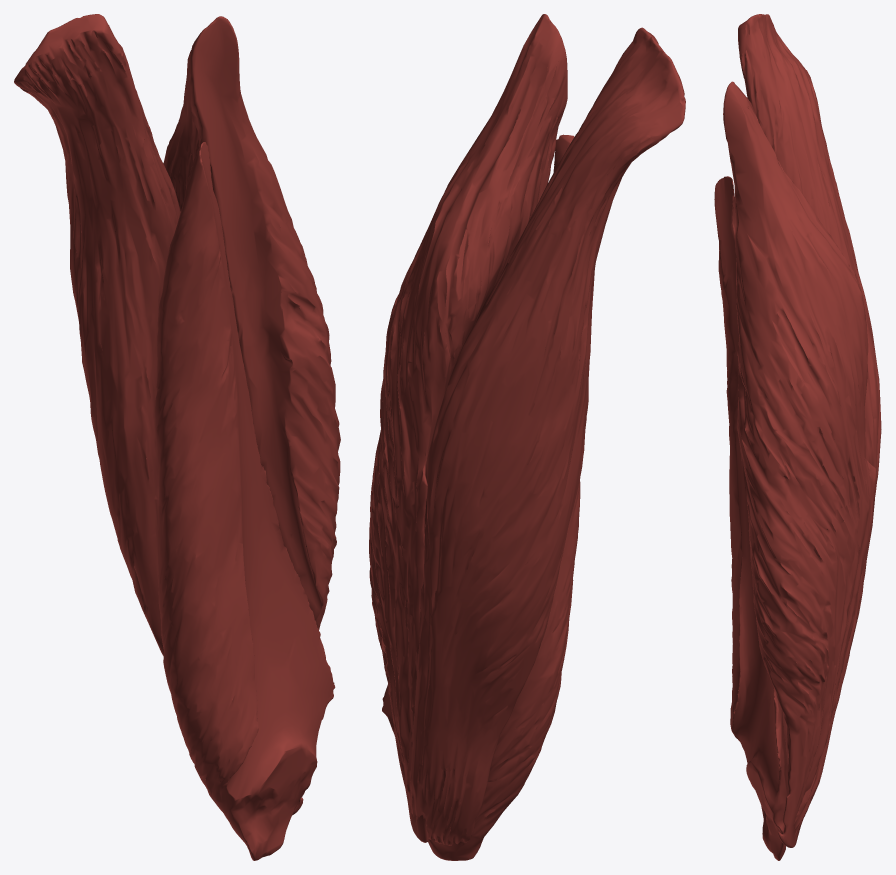
Rendered from explorar-triceps_brachii.glb.
The picture shows the model from 3 angles, left to right: view 1: azimuth 30°, elevation 25°; view 2: azimuth 150°, elevation 25°; view 3: azimuth 270°, elevation 25°; orthographic projection. The views are drawn at different scales.
Visible parts, largest first — view 1: triceps_brachii_left__cabeza_medial, triceps_brachii_left__cabeza_larga, triceps_brachii_left__cabeza_lateral; view 2: triceps_brachii_left__cabeza_larga, triceps_brachii_left__cabeza_lateral, triceps_brachii_left__cabeza_medial; view 3: triceps_brachii_left__cabeza_lateral, triceps_brachii_left__cabeza_medial, triceps_brachii_left__cabeza_larga.
Part boxes in pixels (box(x1,y1,x2,y2)): triceps_brachii_left__cabeza_medial: box(155, 142, 335, 860); triceps_brachii_left__cabeza_larga: box(14, 14, 180, 655); triceps_brachii_left__cabeza_lateral: box(163, 16, 340, 815); triceps_brachii_left__cabeza_larga: box(406, 27, 685, 845); triceps_brachii_left__cabeza_lateral: box(369, 14, 567, 842); triceps_brachii_left__cabeza_medial: box(382, 134, 580, 860); triceps_brachii_left__cabeza_lateral: box(723, 81, 876, 847); triceps_brachii_left__cabeza_medial: box(714, 176, 788, 860); triceps_brachii_left__cabeza_larga: box(738, 14, 881, 835).
Size of the model in its own units: 0.1011 by 0.2693 by 0.0534.
